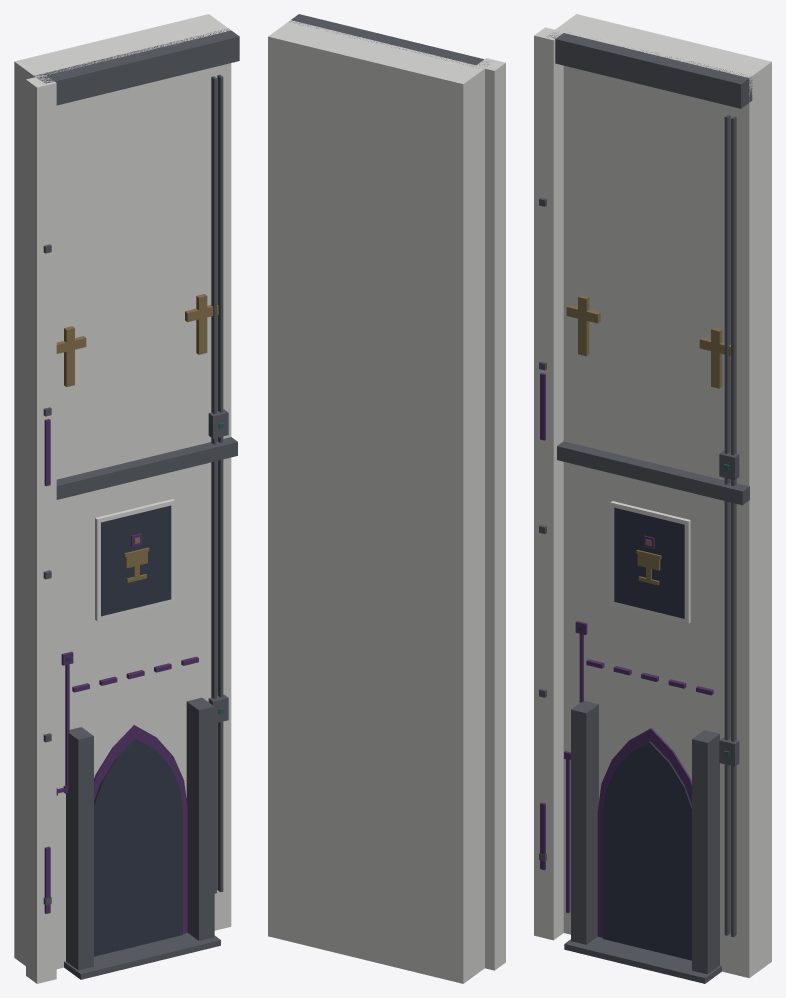
File: Wall_Gate.fbx
3 renders of one model, left to right at view 1: azimuth 30°, elevation 25°; view 2: azimuth 150°, elevation 25°; view 3: azimuth 330°, elevation 25°, orthographic.
Parts seen in each view (by area): view 1: SM_Wall_Gate; view 2: SM_Wall_Gate; view 3: SM_Wall_Gate.
Part boxes in pixels (bbox=[...]): SM_Wall_Gate: bbox=[14, 14, 239, 983]; SM_Wall_Gate: bbox=[268, 14, 505, 983]; SM_Wall_Gate: bbox=[534, 14, 771, 983].
Bounding box in the file's own units: 5.25 × 22 × 1.75.
